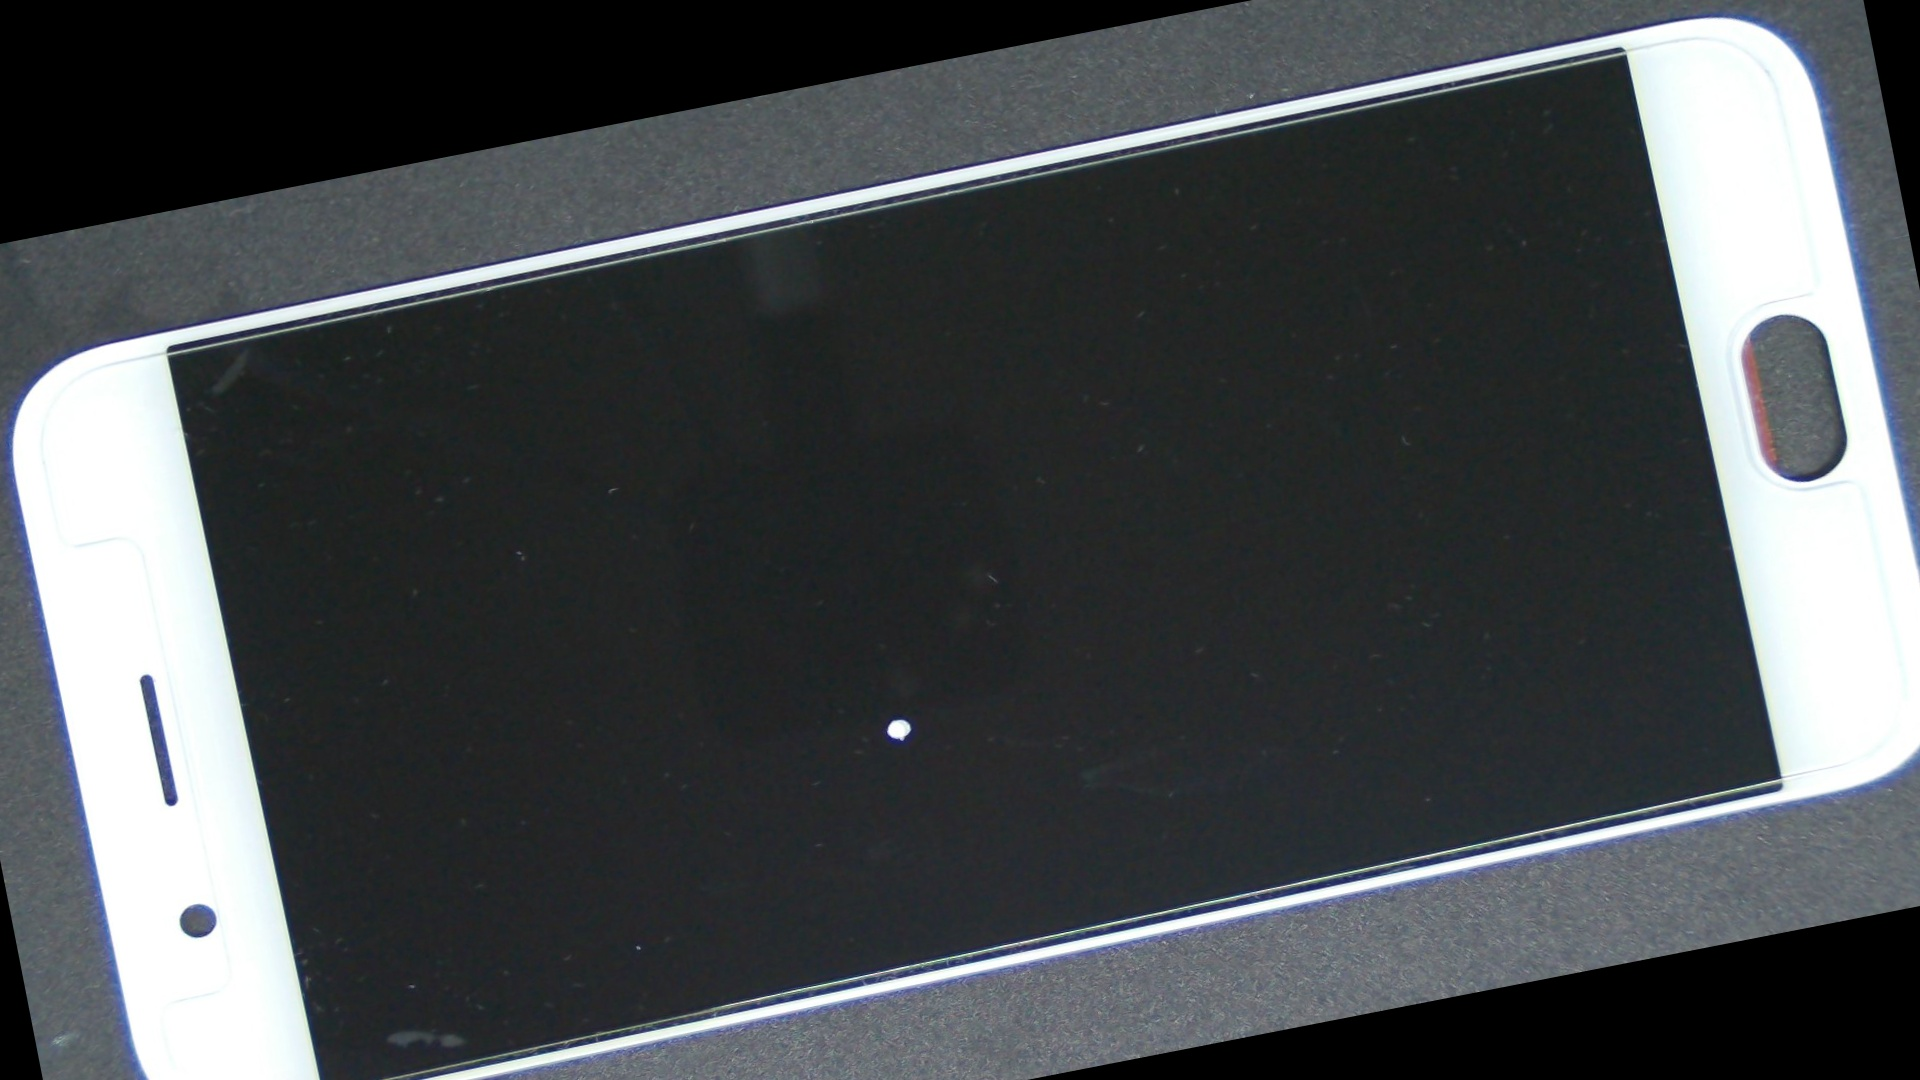oil: (390, 319, 1399, 1080)
